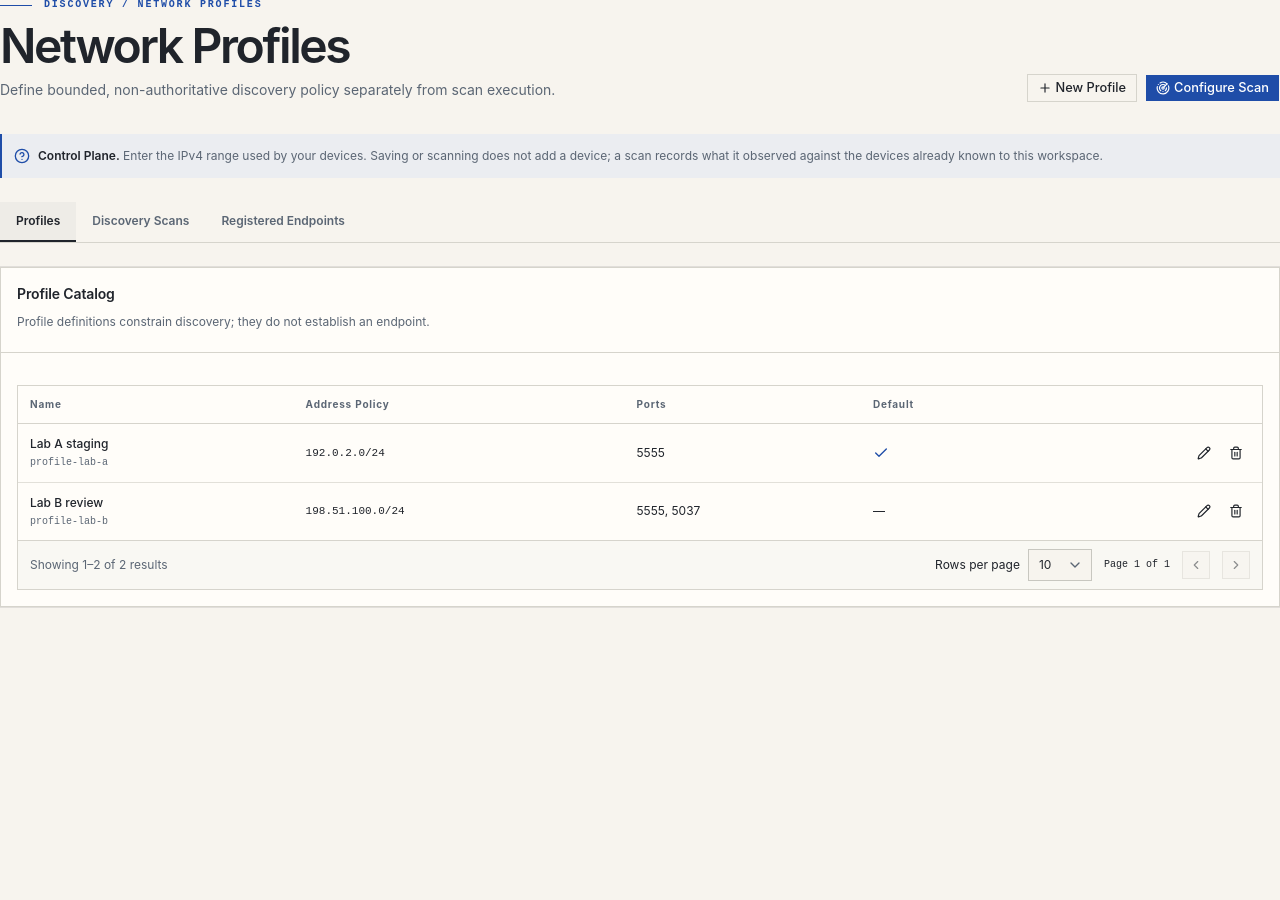
NetworkProfilesPage profile save failures › keeps per-field validation errors reported and distinguishable from a save failure
Click the button "New Profile" at (1082,88), box [1026,74,1137,102]
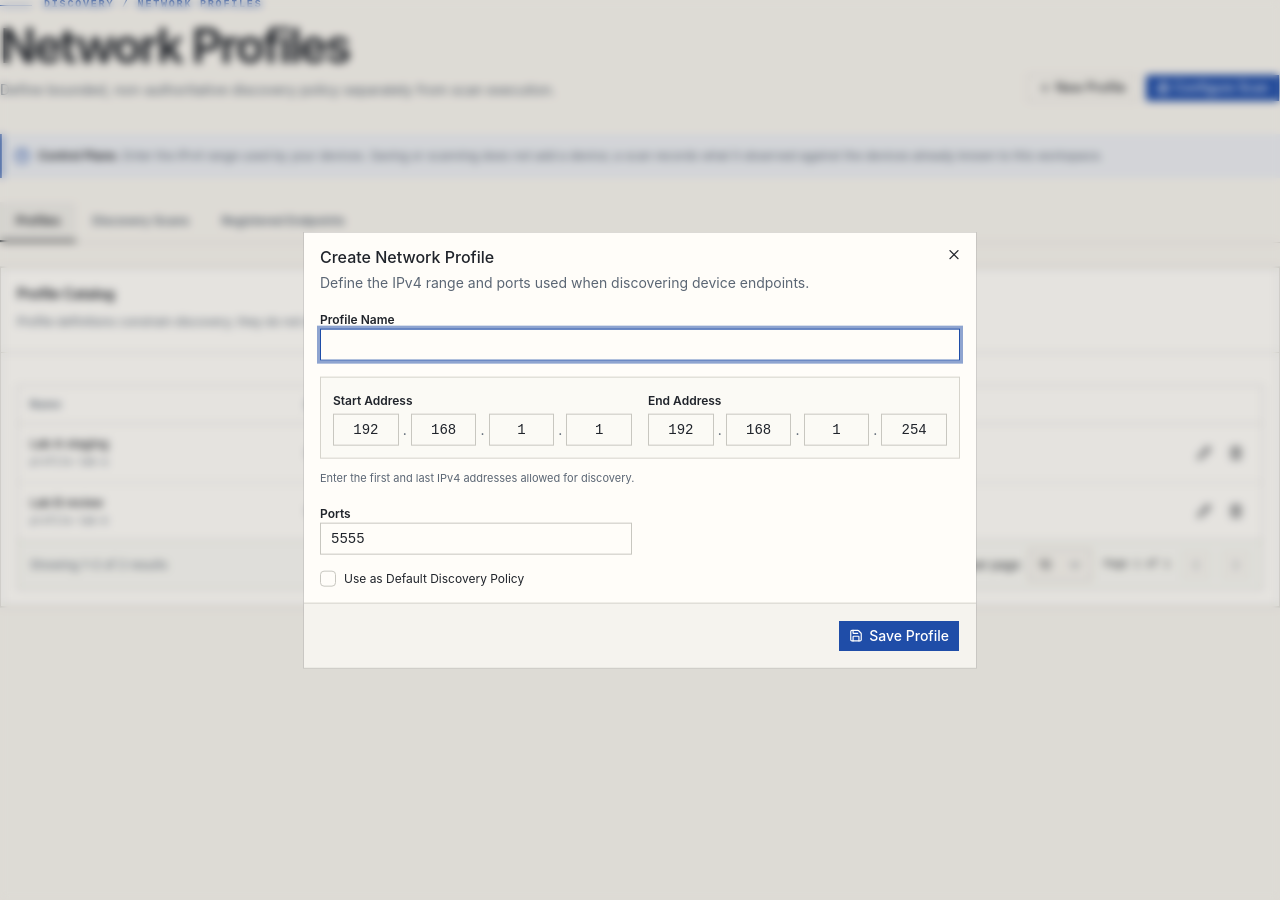
Click the button "Save Profile" at (899,635), box [838,619,960,651]
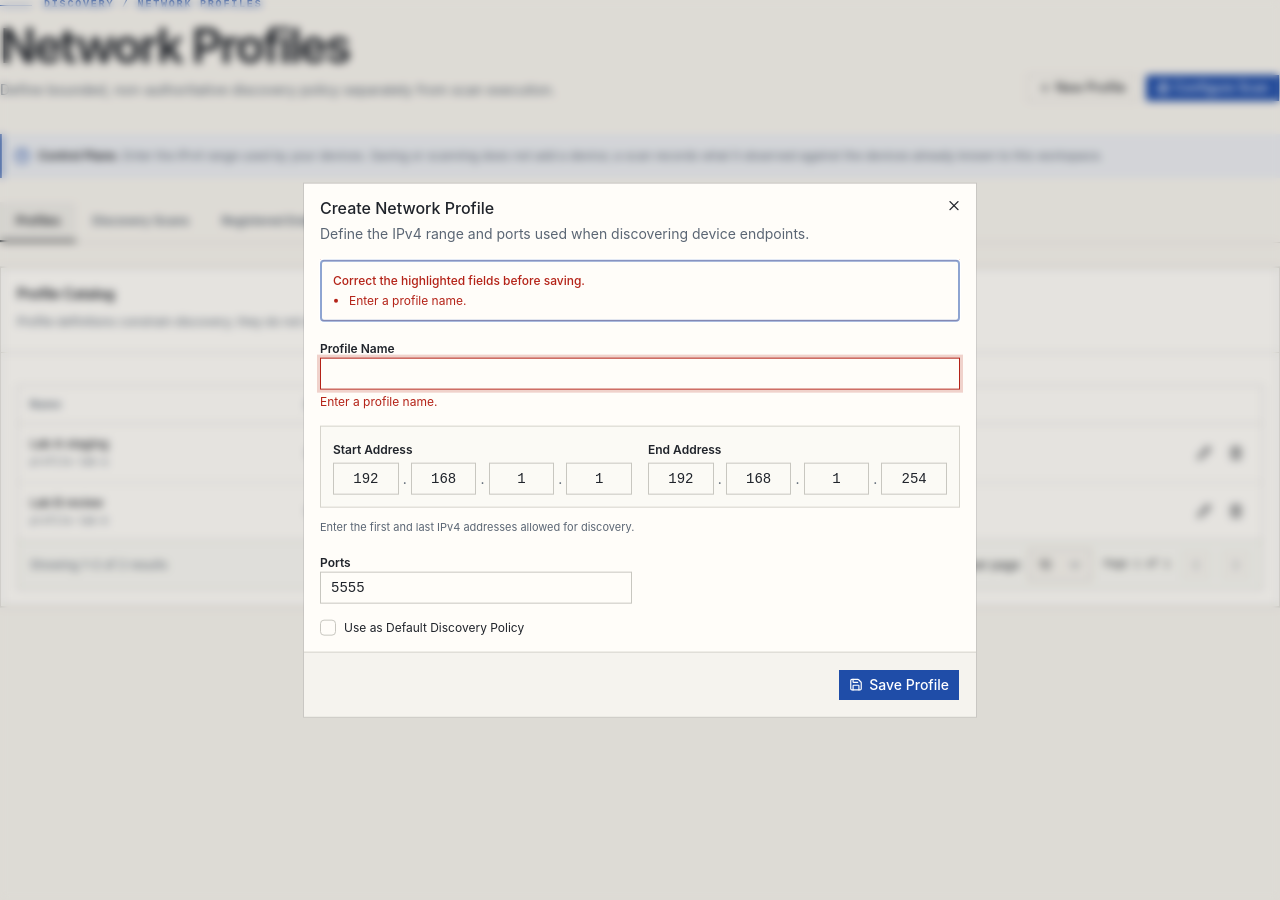
Result: the message shows "Correct the highlighted fields before saving." at [333,273,585,288]
Result: the text "Enter a profile name." is shown at [320,394,437,409]
